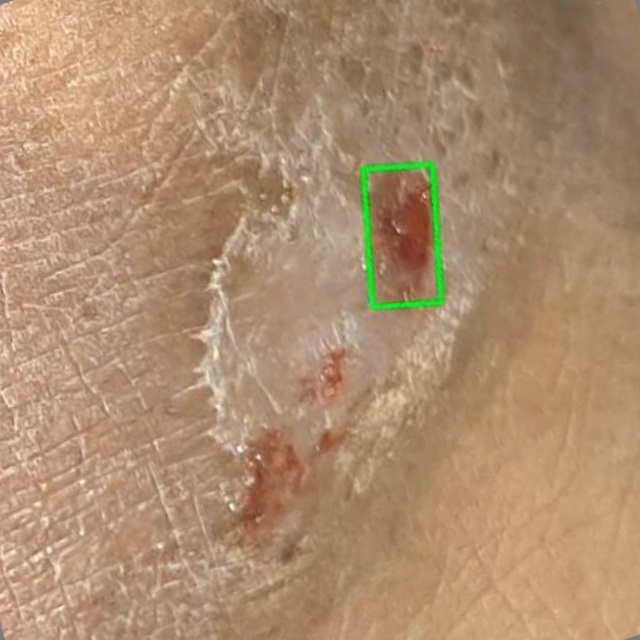Contact Dermatitis: (363, 165, 440, 307)
